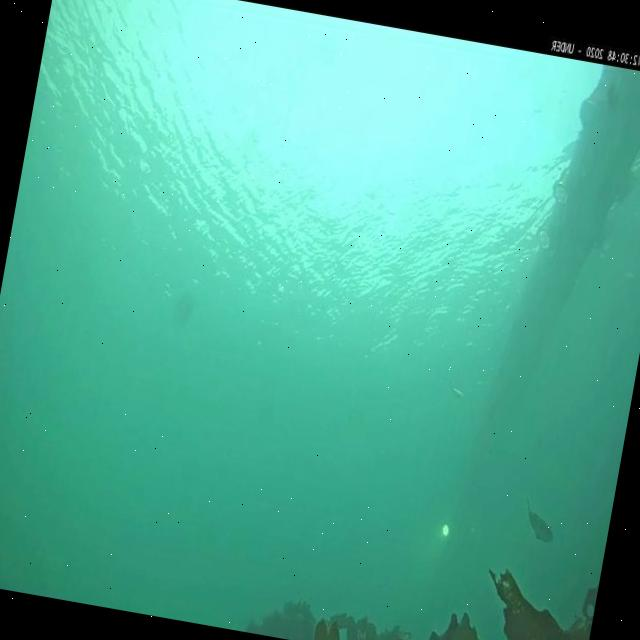fish: (518, 493, 562, 542), (444, 378, 467, 408)
